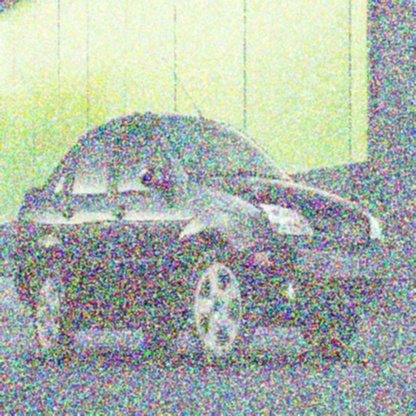Vehicle: (9, 55, 396, 382)
